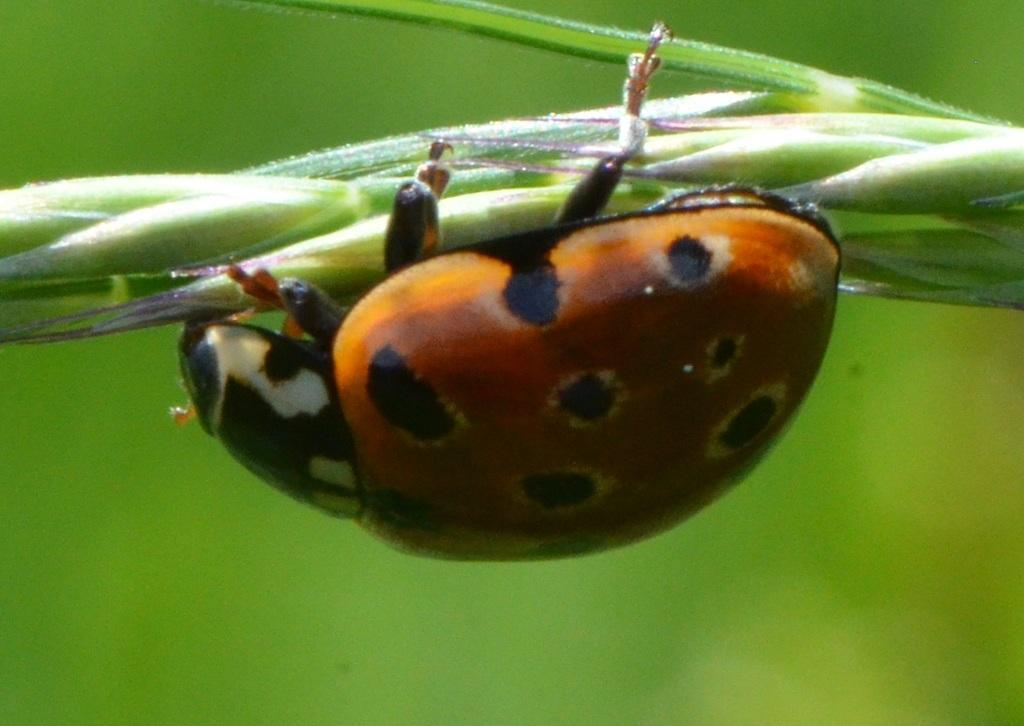ladybug: (167, 17, 845, 565)
